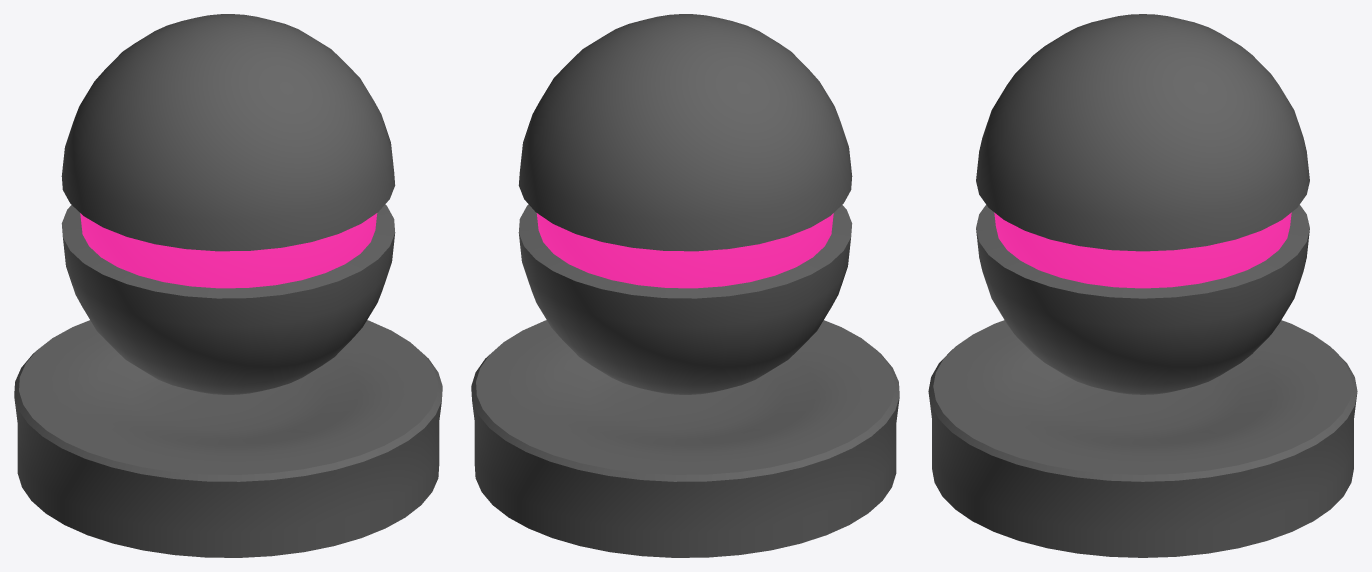
The model's file is shockwave.glb.
The picture shows the model from 3 angles, left to right: view 1: azimuth 30°, elevation 25°; view 2: azimuth 150°, elevation 25°; view 3: azimuth 270°, elevation 25°; orthographic projection.
Visible parts, largest first — view 1: Base, Top Cap, Bottom Cap, BobbleSphere; view 2: Base, Top Cap, Bottom Cap, BobbleSphere; view 3: Base, Top Cap, Bottom Cap, BobbleSphere.
Boxes of the visible parts, x1,y1,x2,y2 form: Base: [14, 320, 442, 557]; Top Cap: [61, 14, 395, 251]; Bottom Cap: [61, 204, 395, 394]; BobbleSphere: [80, 213, 377, 288]; Base: [471, 320, 899, 557]; Top Cap: [518, 14, 852, 251]; Bottom Cap: [518, 204, 852, 394]; BobbleSphere: [536, 213, 833, 288]; Base: [928, 320, 1357, 557]; Top Cap: [976, 14, 1309, 251]; Bottom Cap: [976, 205, 1309, 394]; BobbleSphere: [994, 212, 1291, 288].
Bounding box in the file's own units: 0.9876 × 1.12 × 0.9876.
